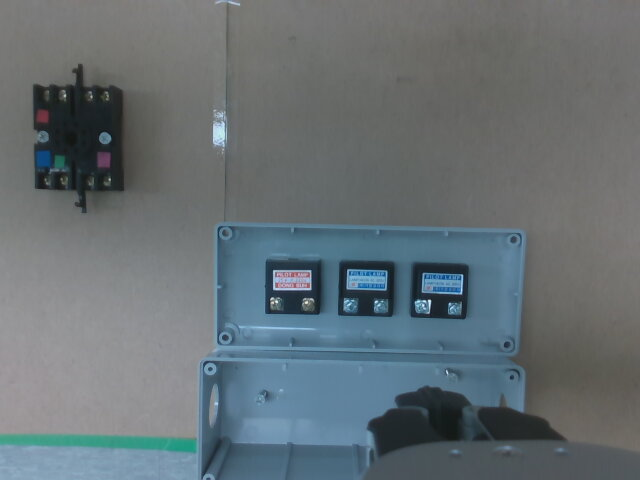L1(1): (269, 297, 283, 310)
L1(2): (301, 298, 314, 311)
L2(1): (343, 298, 358, 312)
L2(2): (373, 299, 388, 313)
L3(1): (415, 299, 430, 314)
L3(2): (448, 302, 462, 316)
